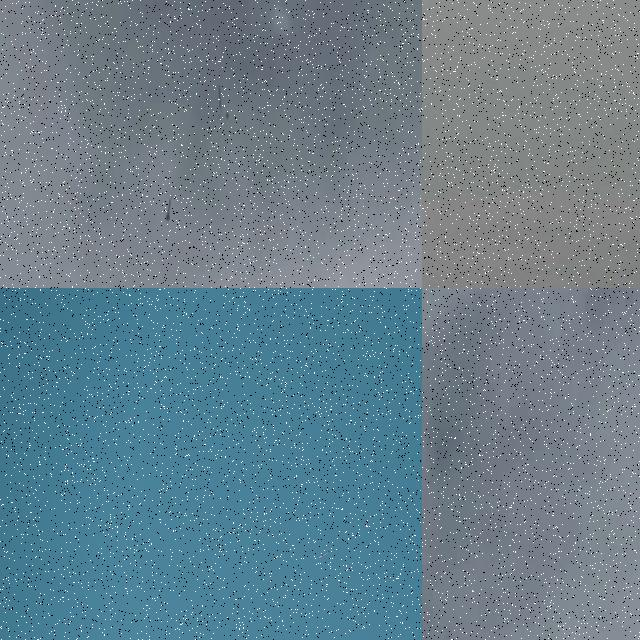Rocket: (165, 197, 172, 223), (321, 551, 330, 558)
